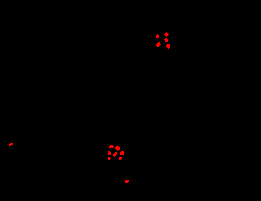Target: (164, 32, 169, 37), (156, 42, 161, 47), (115, 146, 120, 151), (166, 44, 170, 49), (113, 152, 117, 157), (164, 38, 168, 42), (120, 151, 124, 155), (109, 145, 114, 148), (156, 34, 159, 38), (9, 143, 13, 146), (108, 151, 111, 155), (125, 180, 129, 183), (108, 157, 111, 160), (119, 157, 122, 160)
